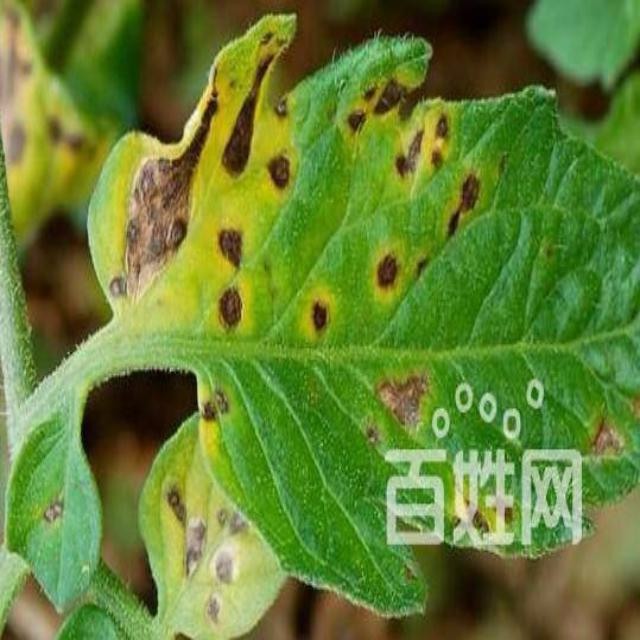Early_blight: (108, 58, 220, 305), (219, 32, 289, 175), (343, 72, 429, 142), (388, 115, 451, 184), (161, 484, 206, 579), (373, 369, 434, 432), (441, 168, 484, 242), (450, 497, 516, 535), (262, 143, 303, 199), (210, 217, 248, 274), (587, 417, 629, 460), (369, 243, 400, 301), (210, 287, 249, 333), (196, 382, 230, 428), (208, 542, 239, 587), (202, 591, 228, 629), (310, 301, 332, 334), (39, 501, 66, 522)
